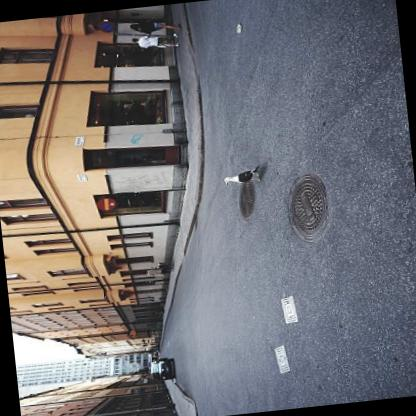manholes: (272, 156, 338, 250), (221, 164, 272, 224)
